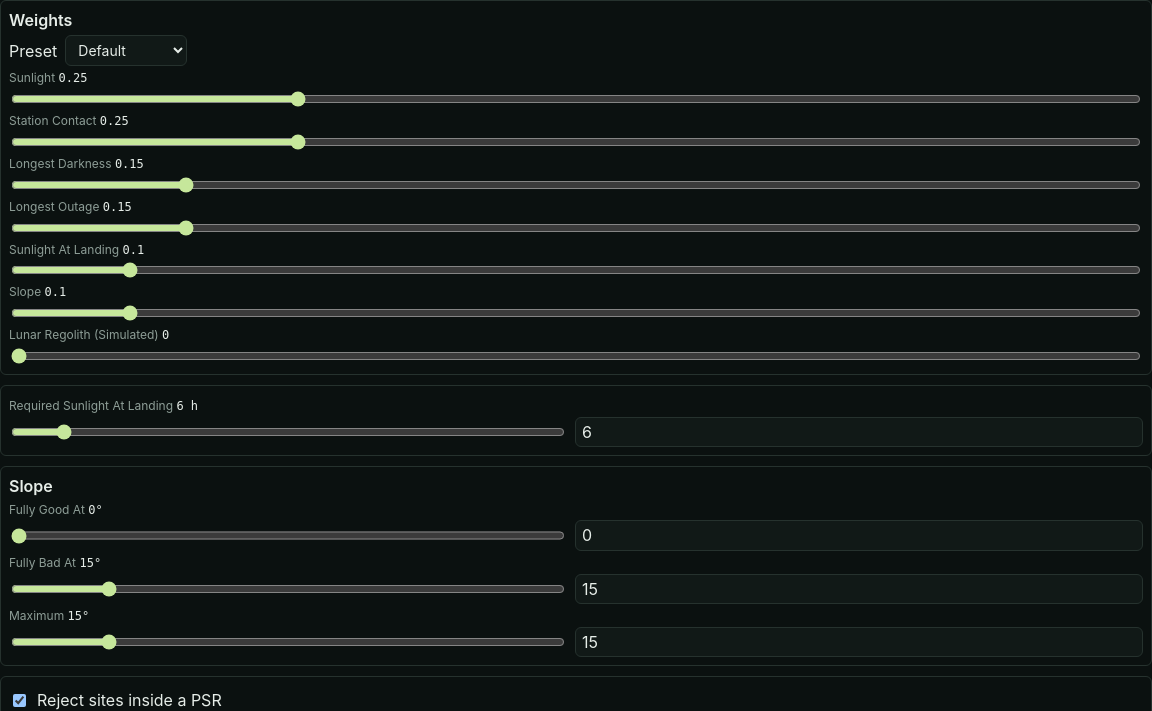
Test: good slope above bad slope is refused
Replace the text in the field named "Fully good at, exact value" with "20": (859, 536) [575,520,1143,551]
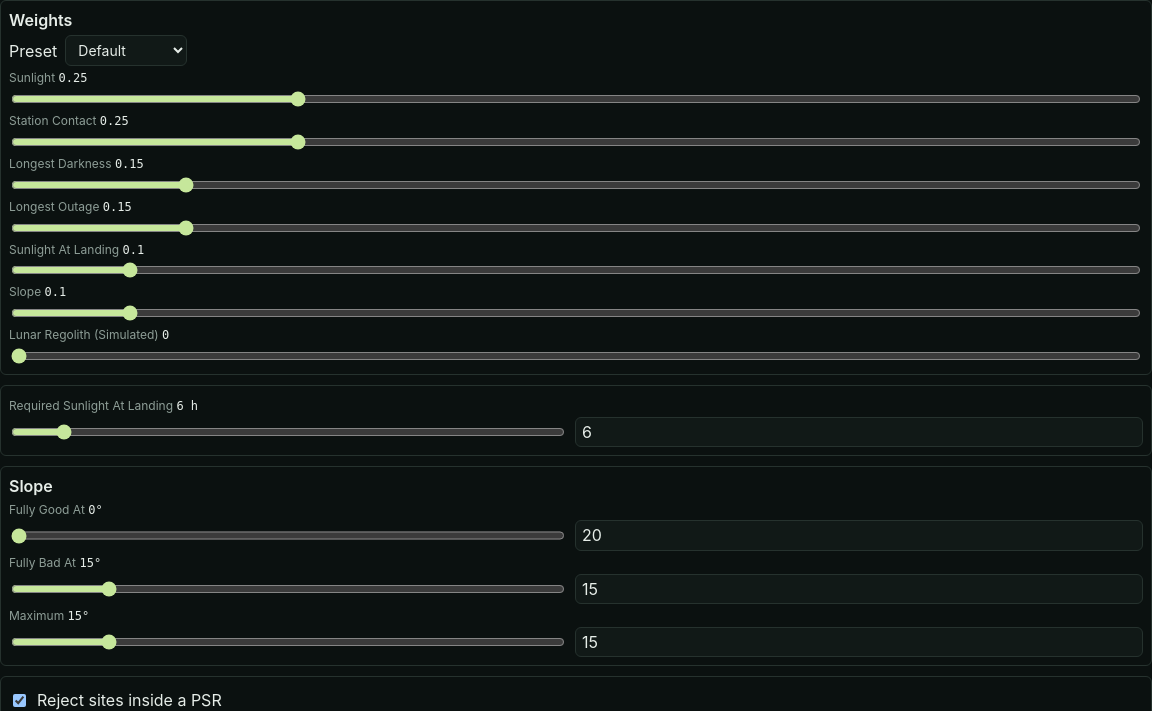
Leave the field named "Fully good at, exact value", box [575,520,1143,551]
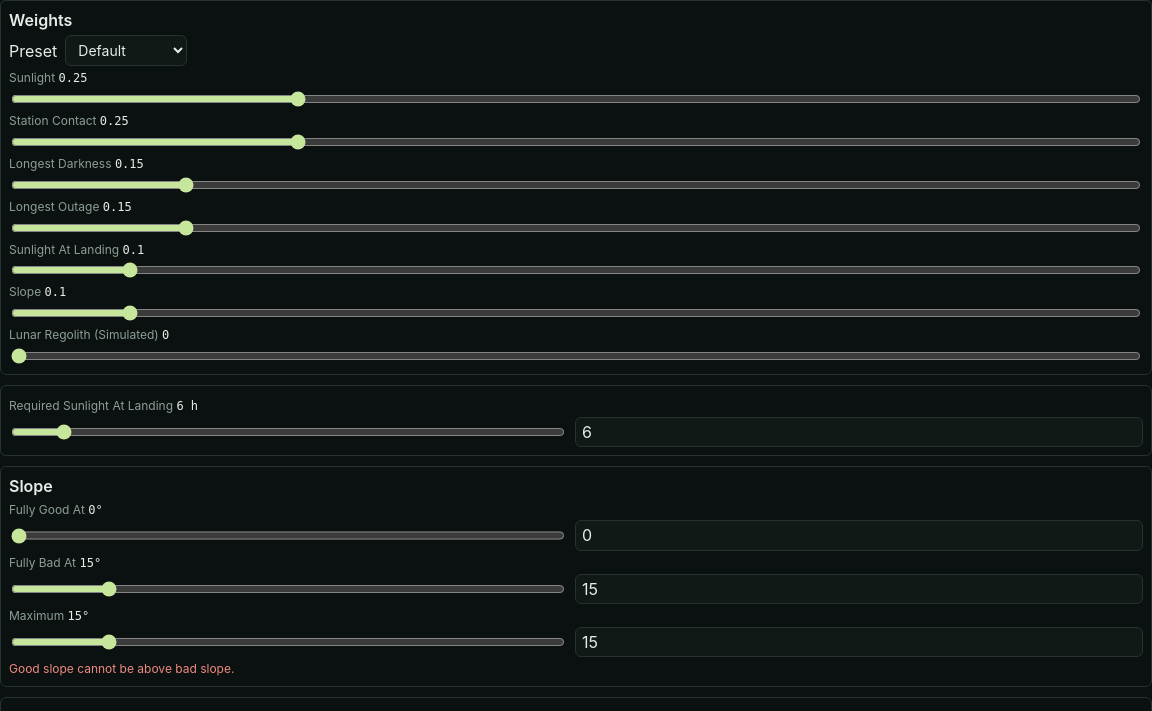
Check: the text "Good slope cannot be above bad slope." is shown, box [9,661,234,676]
